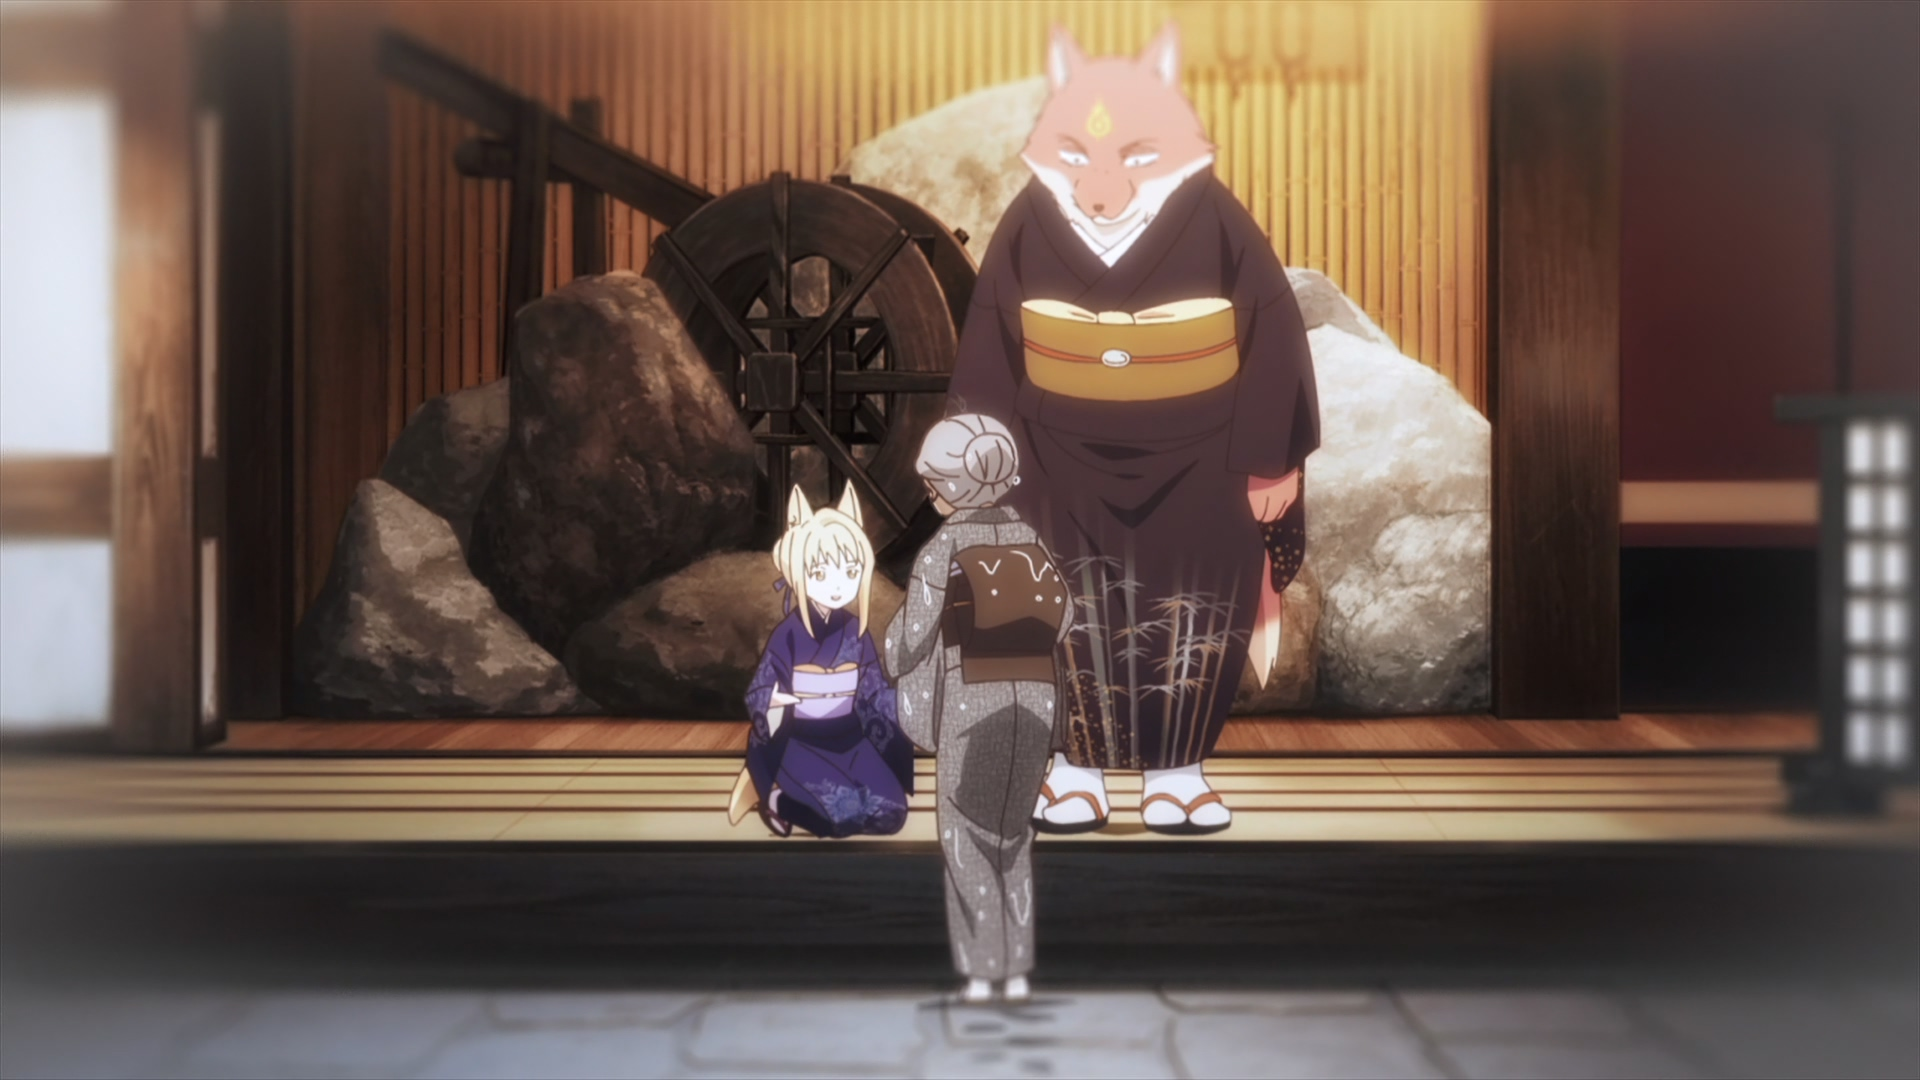其他: (887, 411, 1073, 1004)
桐: (728, 479, 918, 843)
椿: (949, 32, 1323, 837)
